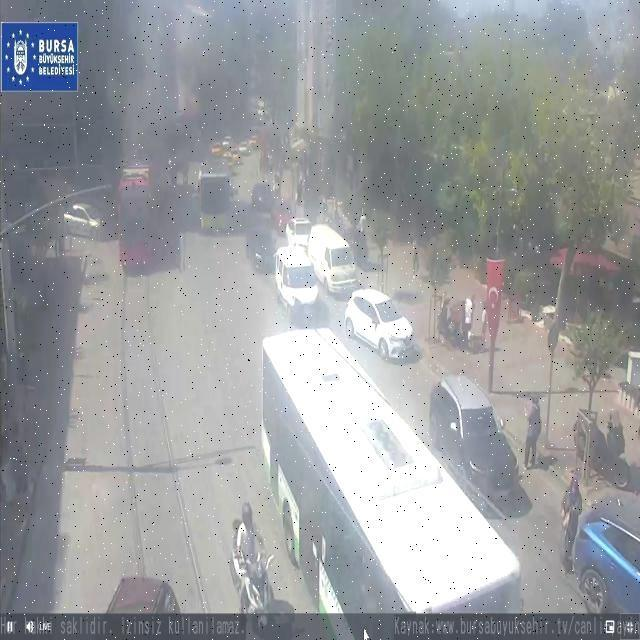Bus: (260, 326, 522, 640), (114, 168, 161, 270), (197, 162, 238, 235)
Car: (428, 377, 519, 498), (576, 486, 640, 612), (345, 287, 414, 360), (109, 576, 182, 612), (58, 203, 111, 242), (248, 224, 276, 271), (286, 217, 310, 245), (252, 181, 272, 210), (274, 208, 292, 232)
Cycle: (227, 520, 277, 636), (574, 410, 632, 491)
Van: (308, 223, 358, 295), (274, 244, 320, 311)
